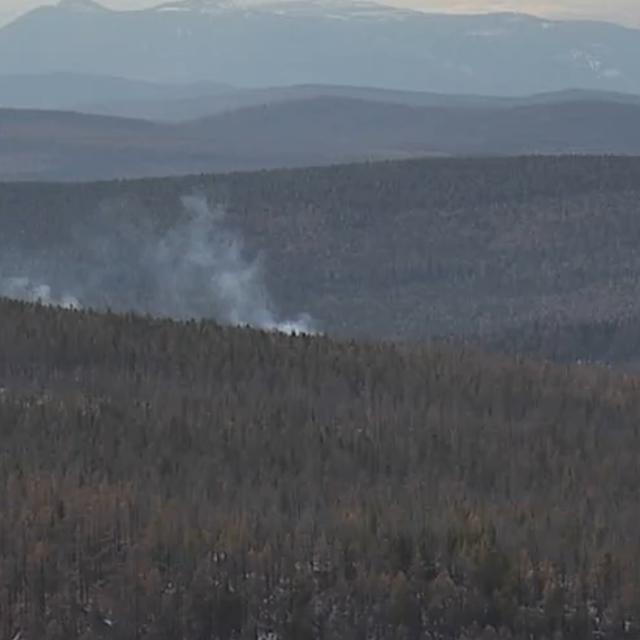Smoke: (0, 189, 326, 338)
